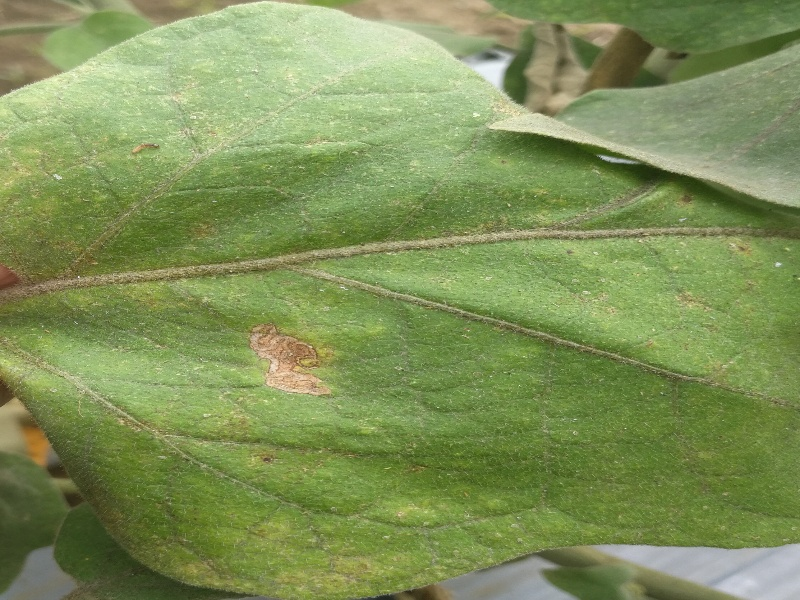leafminer: (226, 310, 342, 414)
